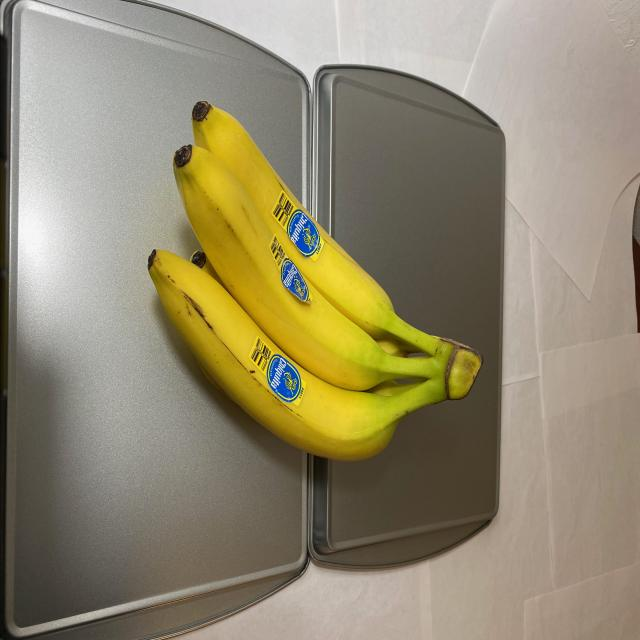Banana: (143, 96, 483, 467)
